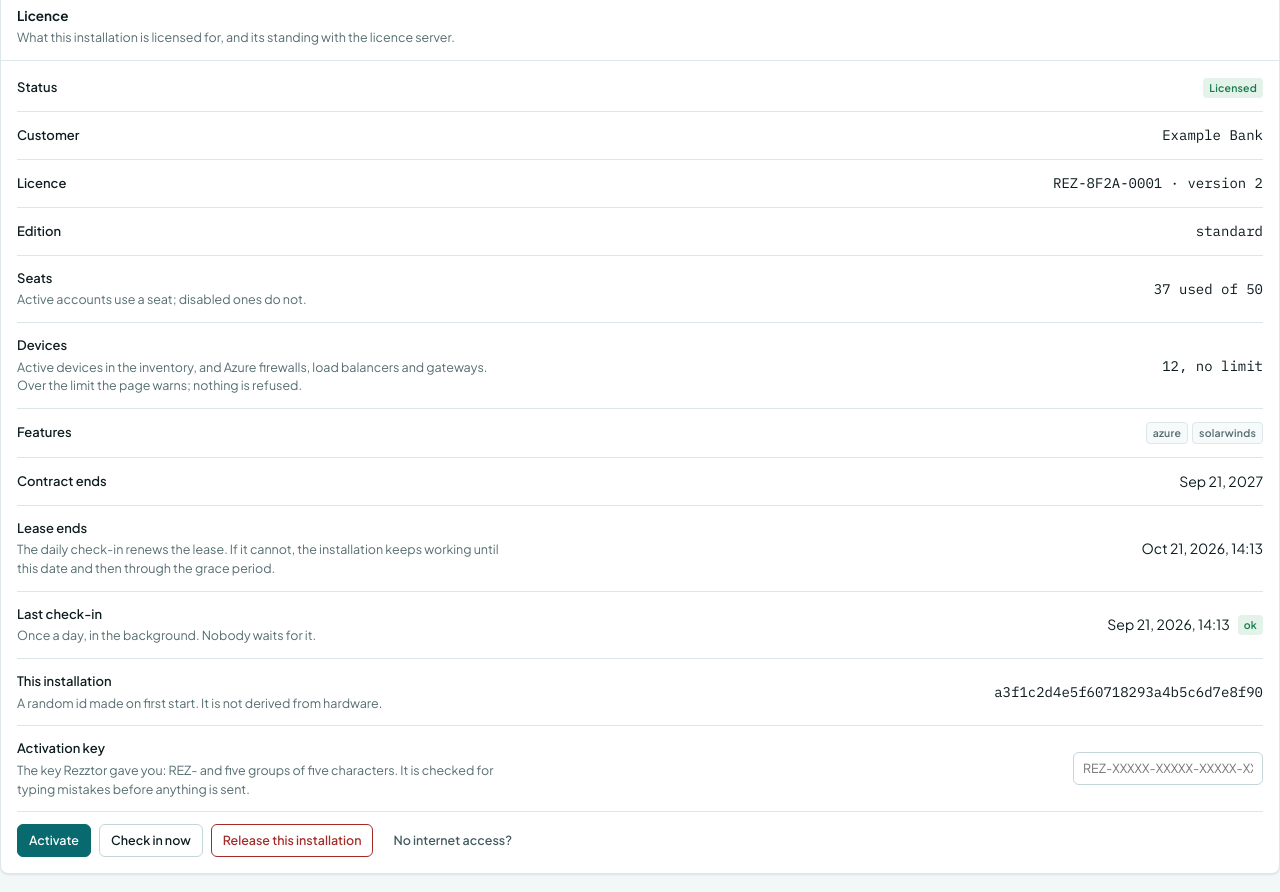
the licence page › checks in on request
The image size is (1280, 892).
Expected: the text "This installation" is shown, x1=17 y1=673 x2=112 y2=689
Click the button "Check in now" at (151, 841), box x1=99 y1=824 x2=203 y2=857
(page scrolled)
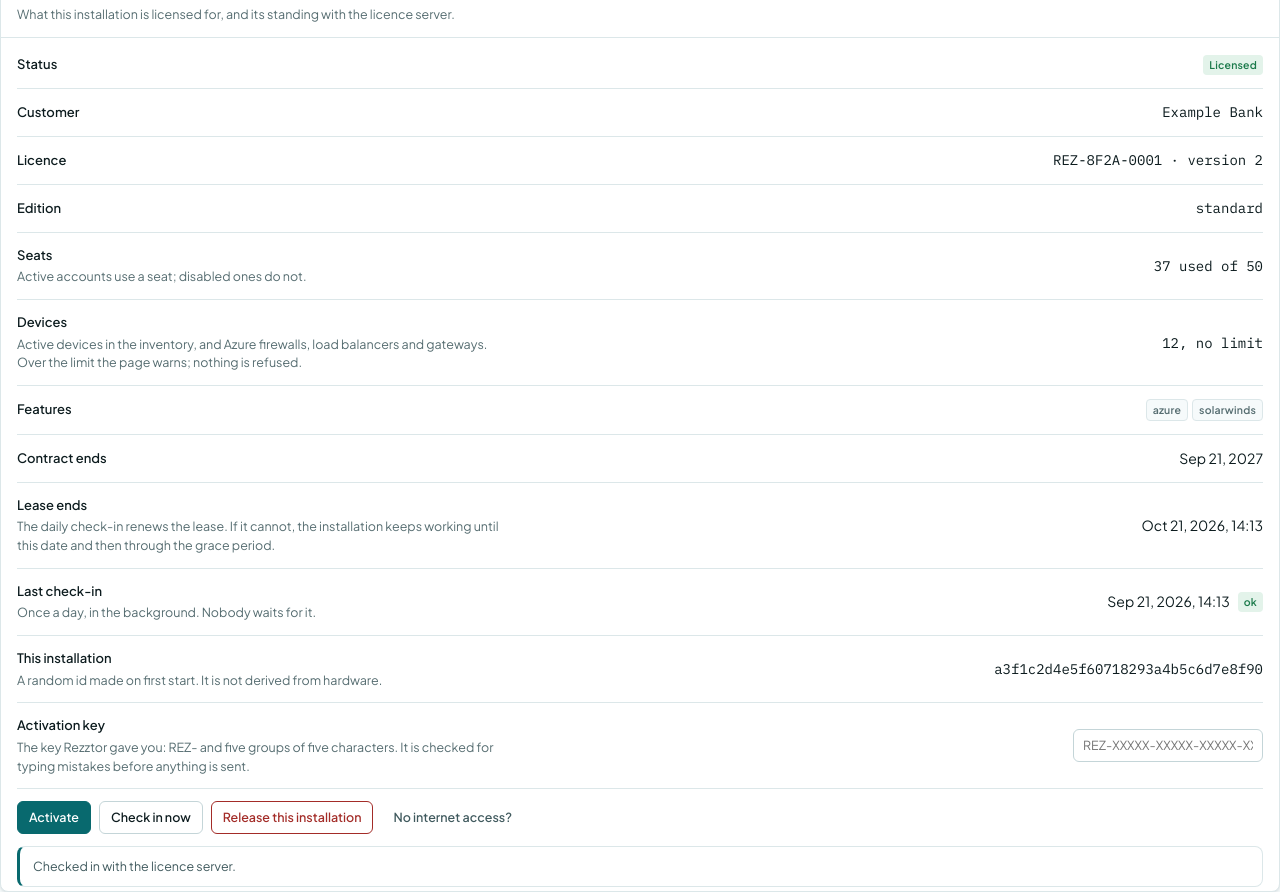
Now the text "Checked in with the licence server." is shown, box x1=17 y1=846 x2=1263 y2=887
